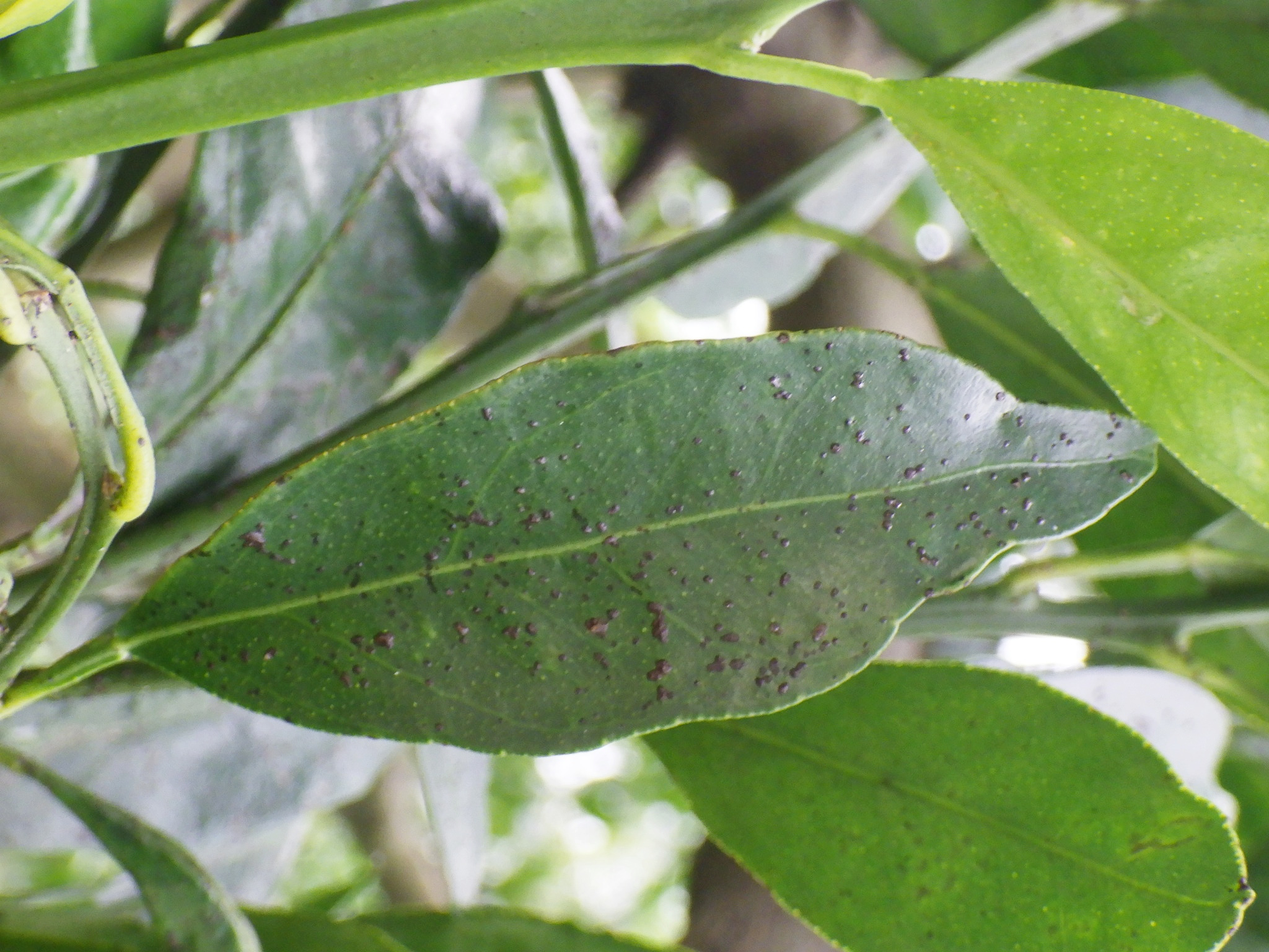Black_Spot: (116, 331, 1155, 754)
